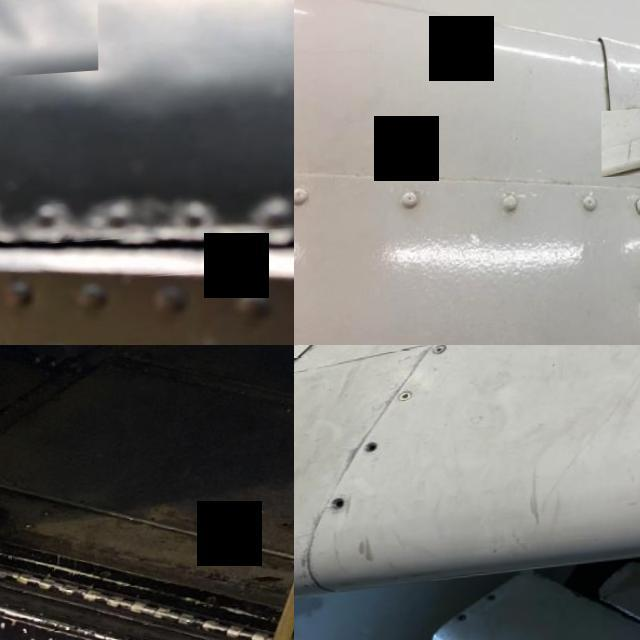Crack: (600, 107, 640, 181), (294, 358, 305, 388)
Dent: (0, 0, 97, 86)
Missing_Fastener: (330, 500, 348, 518), (362, 444, 379, 458)
